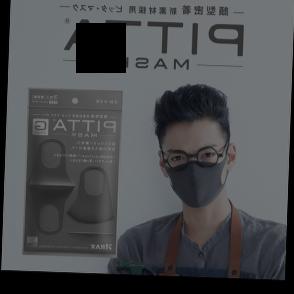with_mask: (160, 141, 226, 208)
